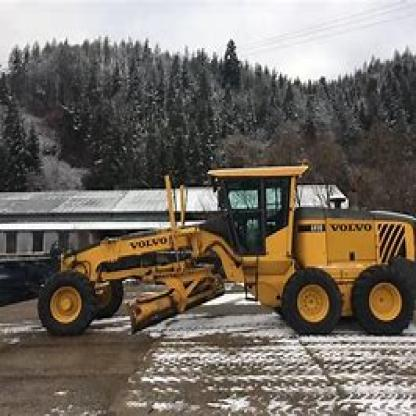bull_dozer/loader/grader: (37, 146, 414, 344)
